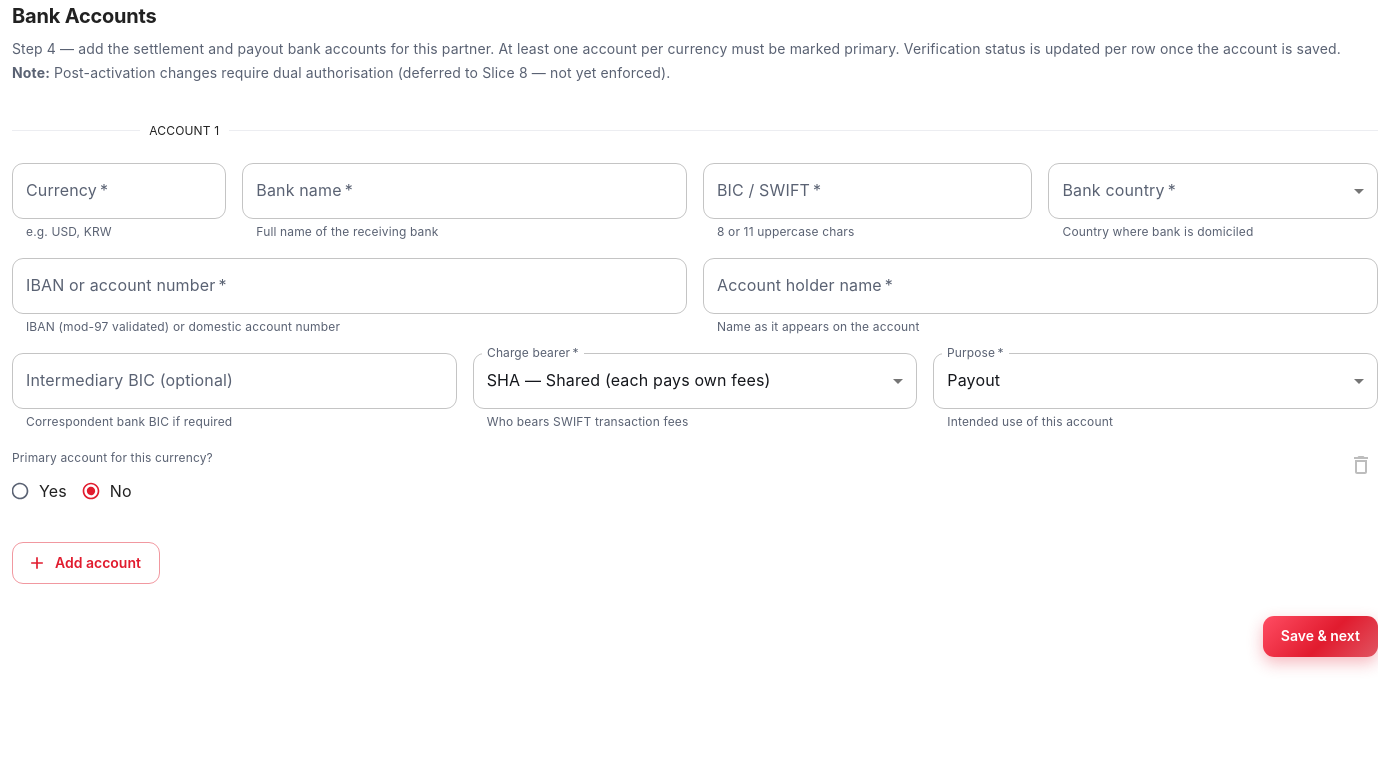
Test: BankAccountsSection › adds a new row when "Add account" is clicked
Step 1. Click the button "Add account" → (86, 563), box [12,542,160,584]
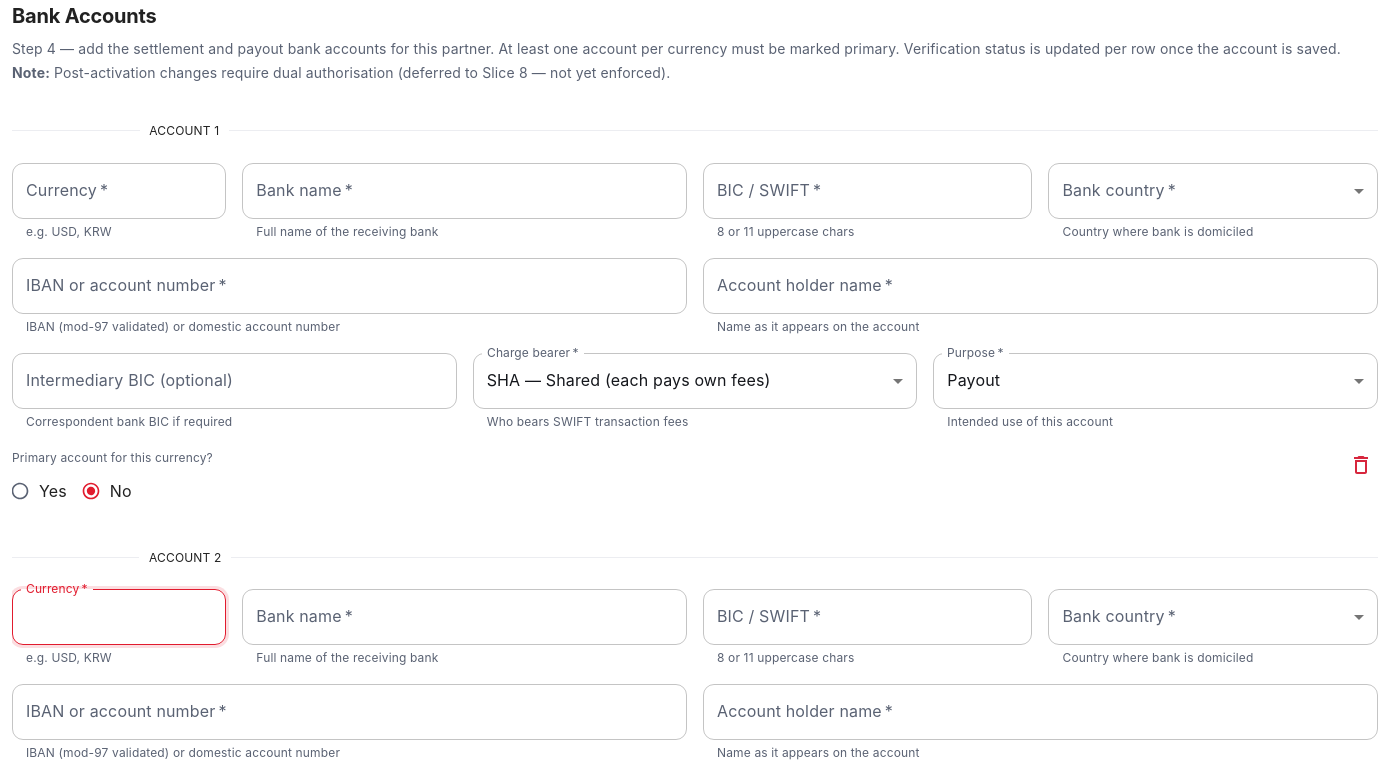
expect the field named "bankAccounts[1].currency" is shown: met, box [12,590,226,646]
